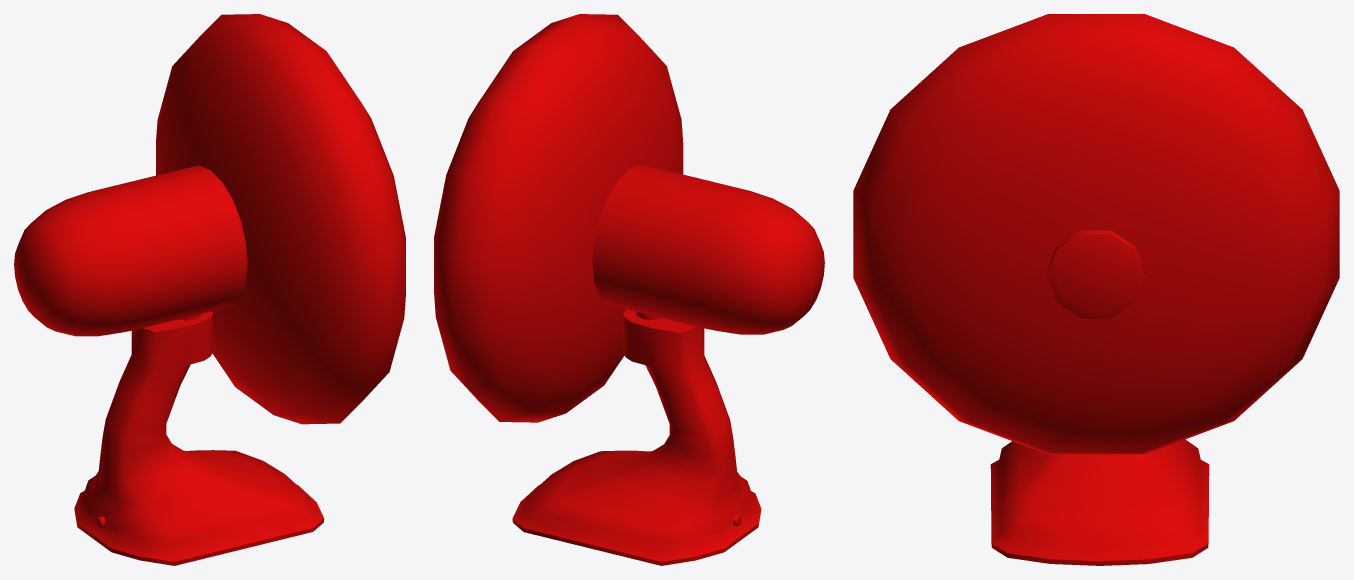
File: Attic_Fan_01_LP.glb
3 renders of one model, left to right at view 1: azimuth 30°, elevation 25°; view 2: azimuth 150°, elevation 25°; view 3: azimuth 270°, elevation 25°, orthographic. The views are drawn at different scales.
Parts seen in each view (by area): view 1: Attic_Fan_01_LP; view 2: Attic_Fan_01_LP; view 3: Attic_Fan_01_LP.
Boxes of the visible parts, <box> form: Attic_Fan_01_LP: <box>14,14,405,565</box>; Attic_Fan_01_LP: <box>434,14,824,565</box>; Attic_Fan_01_LP: <box>853,14,1339,565</box>.
Bounding box in the file's own units: 0.4577 × 0.6168 × 0.5021.
